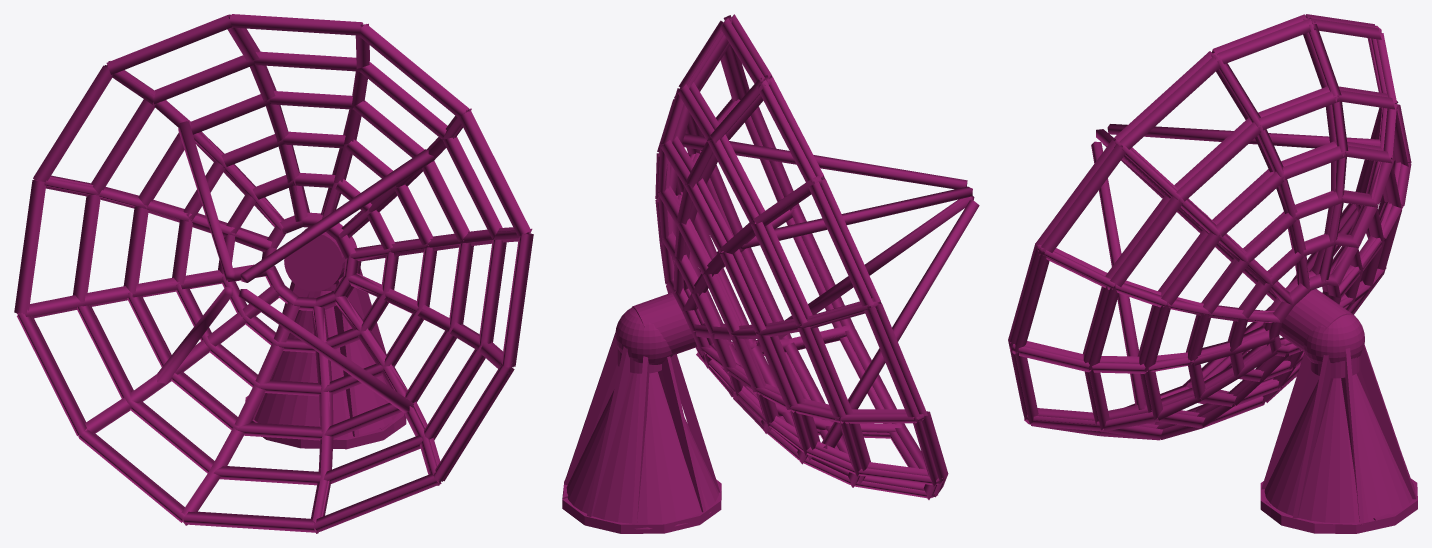
File: SmallBlockRadarRynAR_Constr3.fbx
The picture shows the model from 3 angles, left to right: view 1: azimuth 30°, elevation 25°; view 2: azimuth 150°, elevation 25°; view 3: azimuth 270°, elevation 25°; orthographic projection.
Parts seen in each view (by area): view 1: Cone.001; view 2: Cone.001; view 3: Cone.001.
Part boxes in pixels (bbox=[...]): Cone.001: bbox=[14, 14, 533, 533]; Cone.001: bbox=[562, 14, 979, 533]; Cone.001: bbox=[1008, 14, 1417, 533].
Size of the model in its own units: 1.13 by 1.32 by 1.11.
